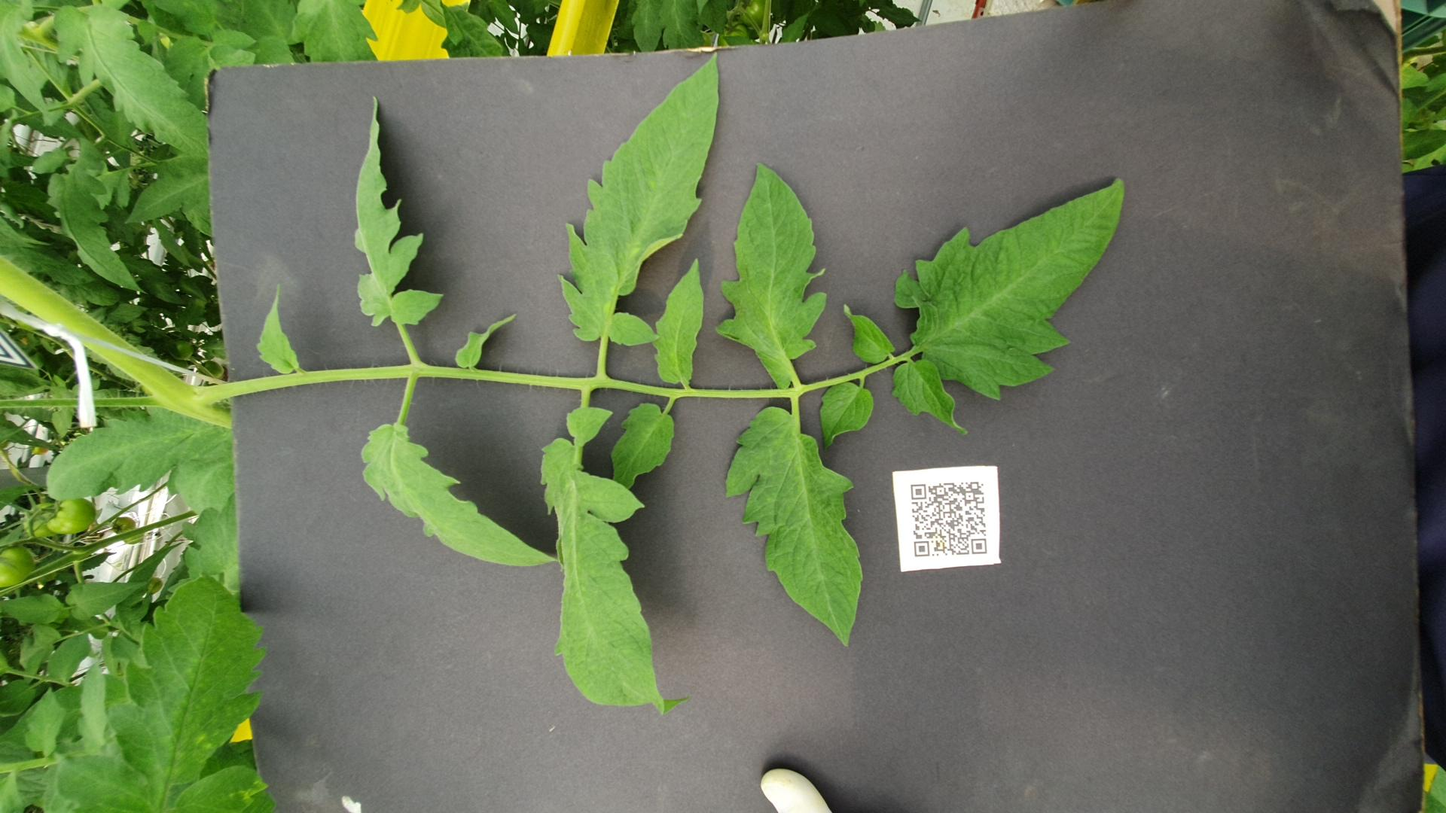Healthy: (730, 502, 1131, 634), (829, 313, 1355, 406), (175, 303, 725, 389), (296, 407, 727, 486), (437, 202, 695, 315), (756, 401, 1161, 466), (1159, 29, 1439, 117), (863, 199, 1279, 250), (553, 25, 724, 130), (921, 26, 1204, 83), (763, 366, 988, 397), (1045, 69, 1167, 119), (670, 501, 806, 544), (1331, 163, 1446, 213), (574, 342, 729, 379), (778, 143, 945, 168), (646, 459, 767, 492), (342, 36, 415, 82), (801, 473, 909, 504), (98, 12, 227, 37), (232, 26, 320, 52), (333, 0, 389, 36)
